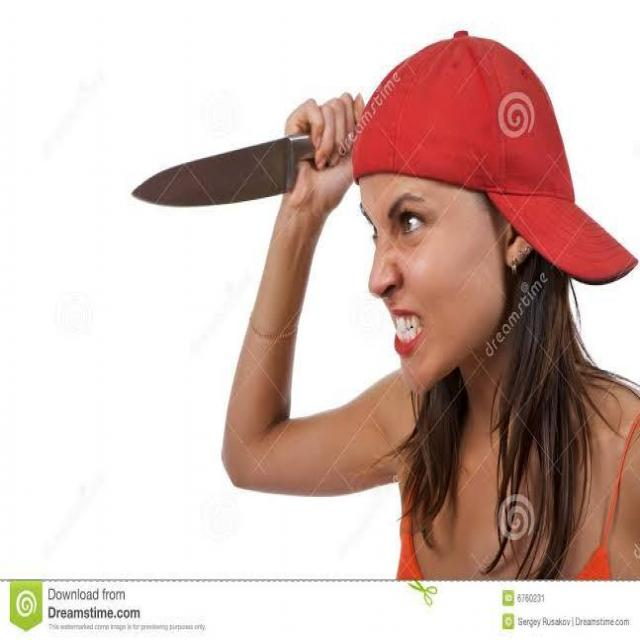knife: (130, 131, 314, 207)
